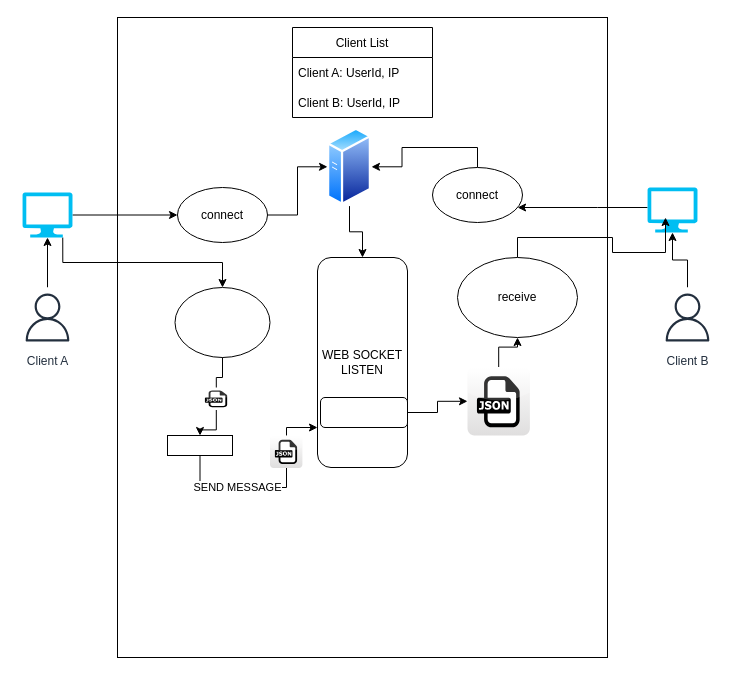
This 735x675 diagram has some shape labels left out. Here are the shapes that lost their labels. From the top down, the centre of each, then its label:
At (349,166): "Server".
At (222,322): "create message API".
At (364,412): "Forward to desination user".
At (199,445): "success".
